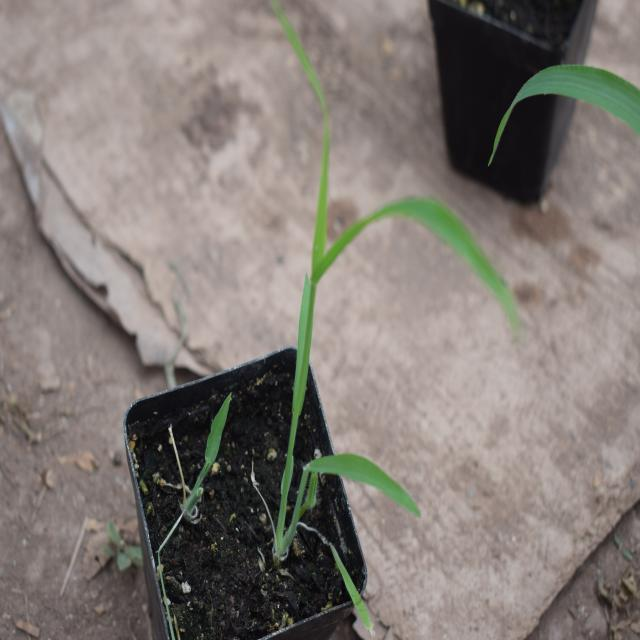crabgrass: (237, 51, 512, 543)
